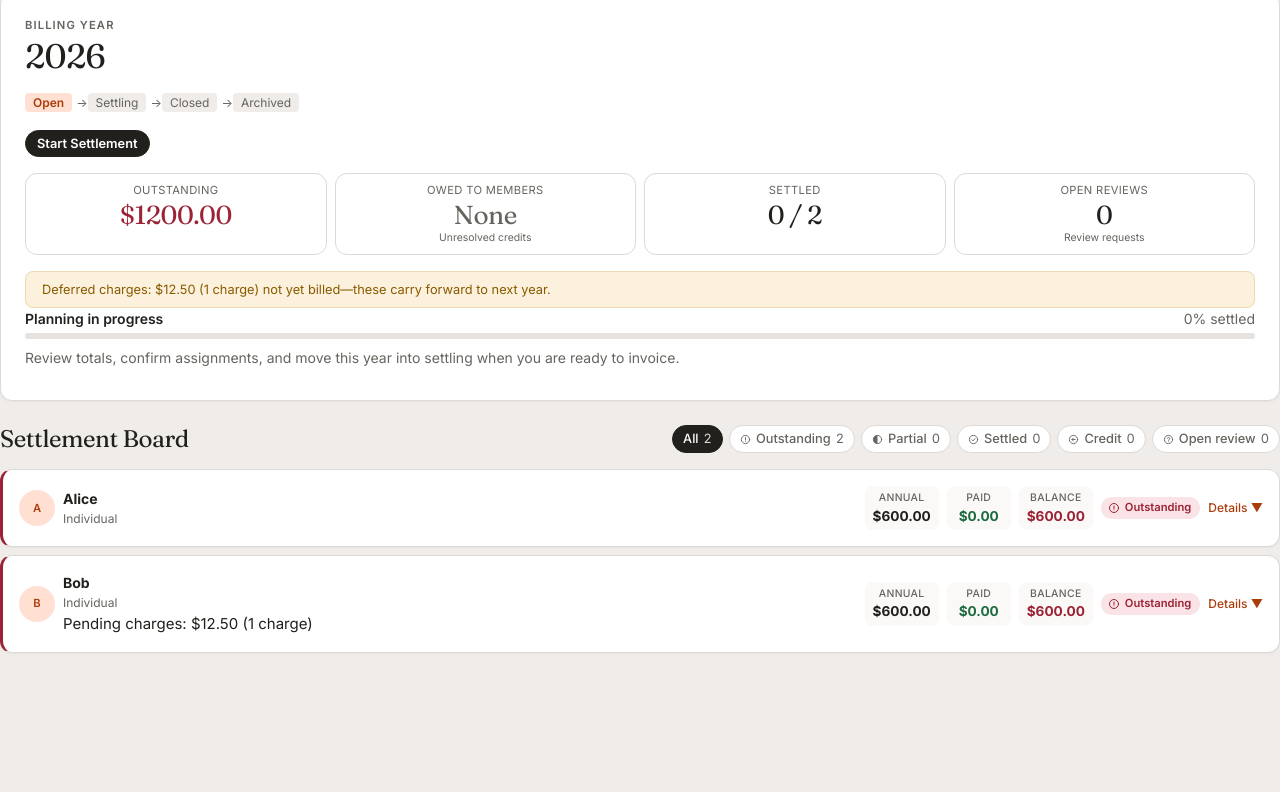
Test: DashboardView › Bill Charges (Charge Notice) › opens the Charge Notice preview from the board Bill Charges action
Note: Expand Bob's card and click Bill Charges
Click the text "Bob" at [37, 604], box [3,556,1279,652]
(page scrolled)
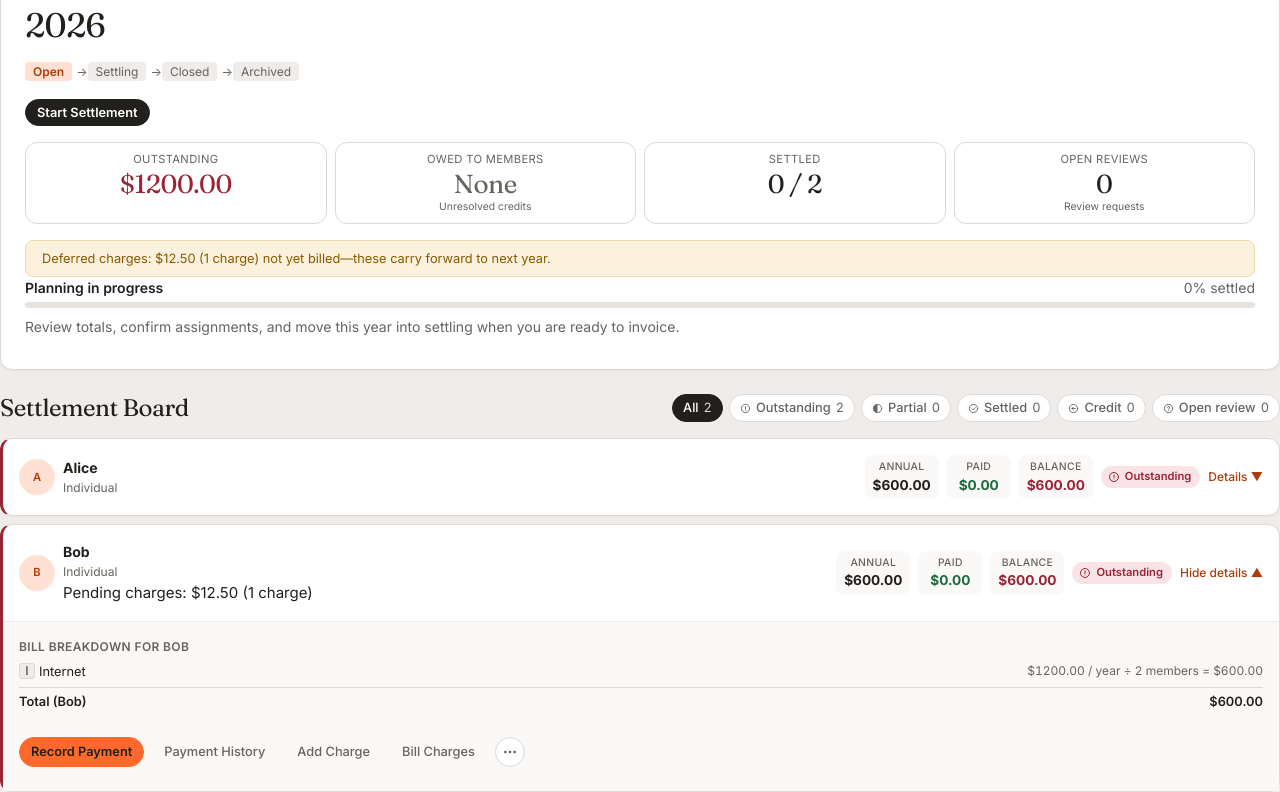
Click the button "Bill Charges" at [438, 752], box [390,737,487,767]
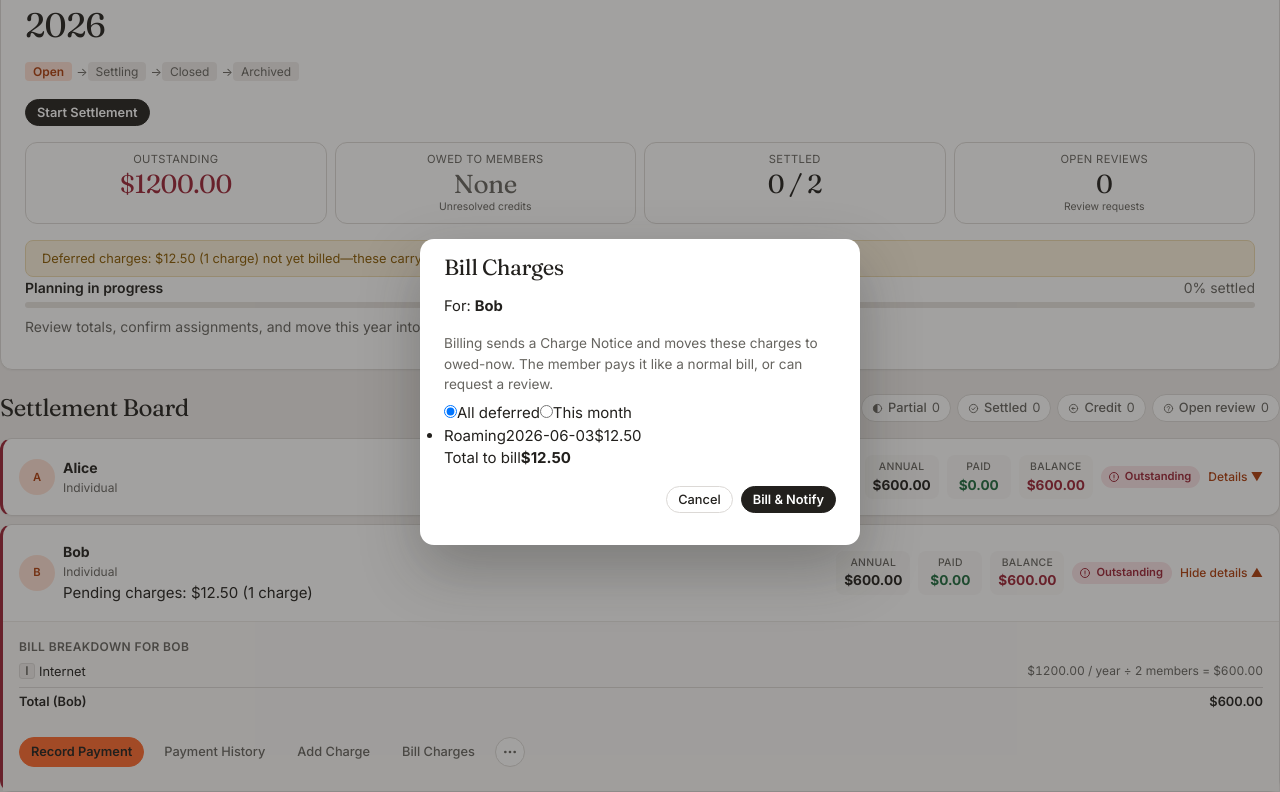
expect the button "Bill & Notify" is shown: met, box [741,486,836,513]
expect the text "Roaming" is shown: met, box [444,426,506,445]
